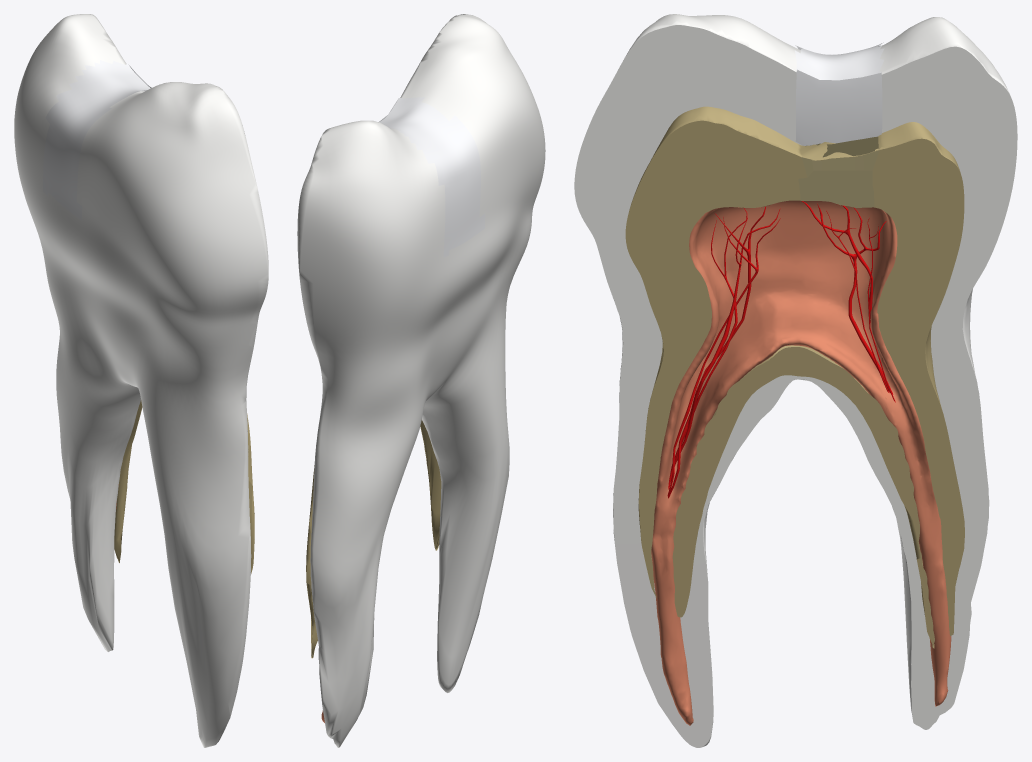
Rendered from cross.glb.
3 views of the same model, side by side, from view 1: azimuth 30°, elevation 25°; view 2: azimuth 150°, elevation 25°; view 3: azimuth 270°, elevation 25° (orthographic). The views are drawn at different scales.
Parts seen in each view (by area): view 1: Sphere.001, Sphere.005, Sphere.002; view 2: Sphere.001, Sphere.005, Sphere.002; view 3: Sphere.001, Sphere.002, Sphere.003, Sphere.005, Sphere.006, Nerve.003, Nerve.001.
Boxes of the visible parts, box(x1,y1,x2,y2) form: Sphere.001: box(14, 14, 268, 747); Sphere.005: box(43, 60, 151, 220); Sphere.002: box(114, 400, 254, 573); Sphere.001: box(297, 14, 545, 747); Sphere.005: box(378, 97, 485, 257); Sphere.002: box(306, 420, 441, 658); Sphere.001: box(574, 14, 1017, 747); Sphere.002: box(625, 106, 964, 648); Sphere.003: box(651, 200, 951, 725); Sphere.005: box(794, 42, 884, 145); Sphere.006: box(798, 136, 879, 207); Nerve.003: box(667, 207, 780, 498); Nerve.001: box(801, 201, 895, 402).
Size of the model in its own units: 0.4521 by 2.77 by 1.53.
